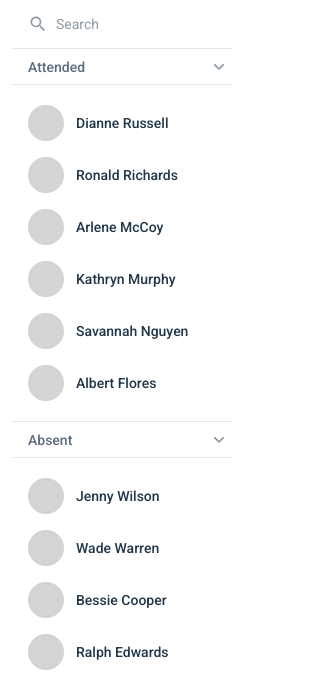
it: ContactList Component › collapses and expands sections on header click
Expected: the text "Dianne Russell" is shown, [76,113,168,133]
Expected: the text "Jenny Wilson" is shown, [76,486,160,506]
# Click 'Attended' header to collapse
Click the button "Attended" at (122, 66), box [12,48,232,85]
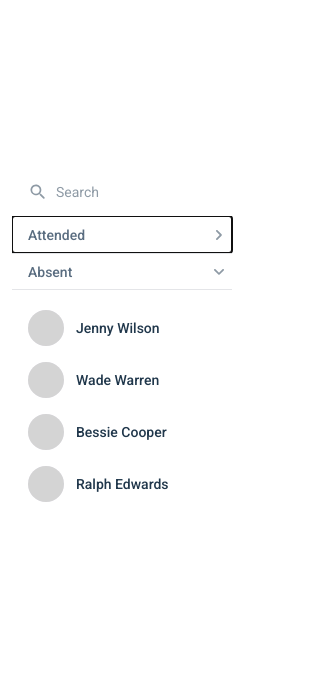
Expected: the text "Jenny Wilson" is shown, [76,318,160,338]
Expected: the button "Dianne Russell" is gone
# Click 'Attended' header again to expand
Click the button "Attended" at (122, 234), box [12,216,232,253]
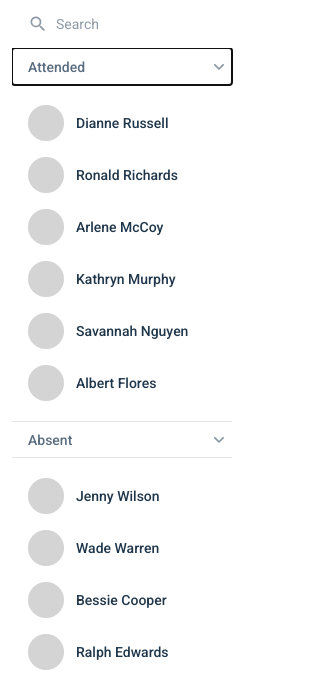
Expected: the text "Dianne Russell" is shown, [76,113,168,133]
# Click 'Absent' header to collapse
Click the button "Absent" at (122, 440), box [12,421,232,458]
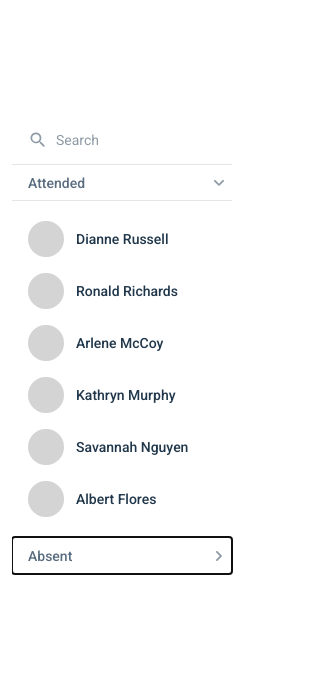
Expected: the text "Dianne Russell" is shown, [76,229,168,249]
Expected: the button "Jenny Wilson" is gone
